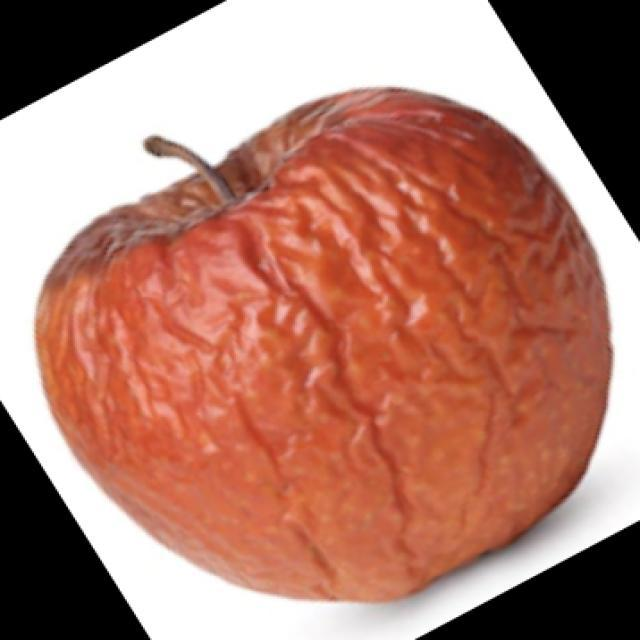Rotten: (45, 82, 603, 605)
